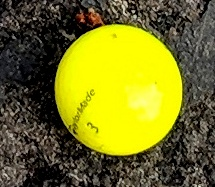ball: (50, 23, 185, 156)
